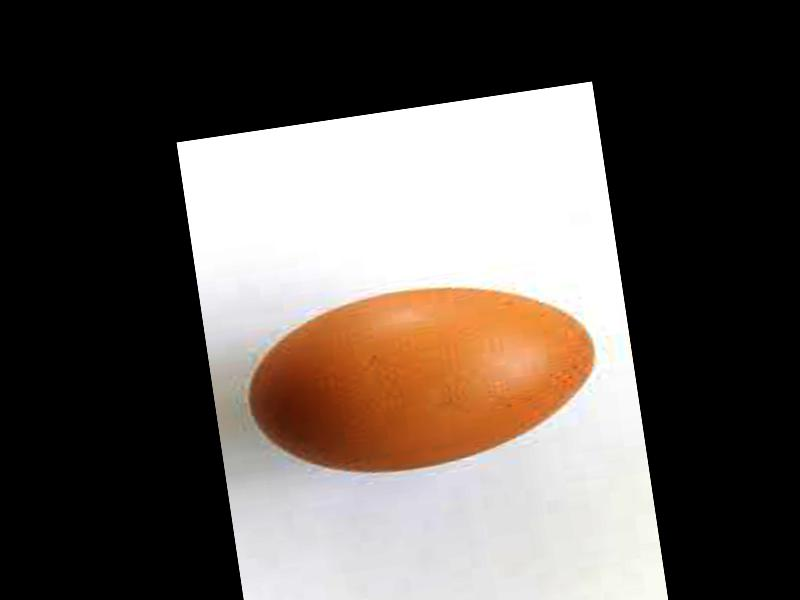Eggs: (239, 266, 607, 491)
